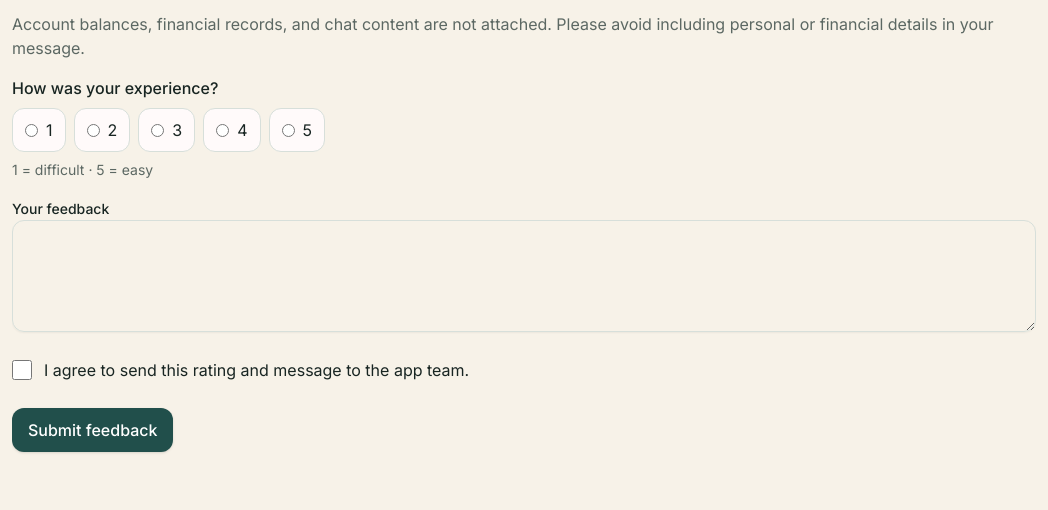
Scenario: feedback UI validates consent, keeps a failed draft and retries without attaching finances
This screenshot has width=1048, height=510.
Click the button "Submit feedback" at (93, 430), box [12,408,174,452]
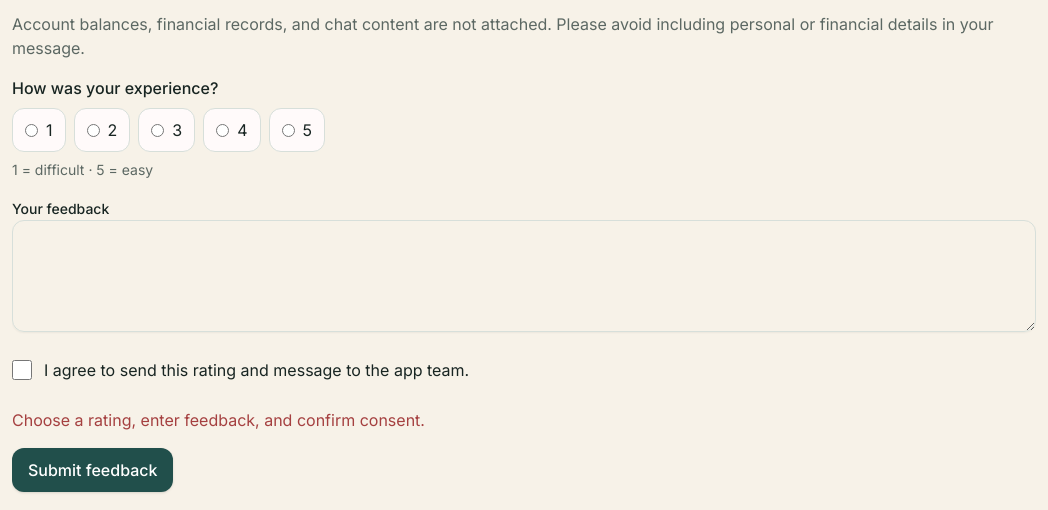
Now the message "Choose a rating, enter feedback, and confirm consent." is shown, box [12,410,425,430]
Click the radio button named "4 of 5" at (223, 130), box [216,124,229,136]
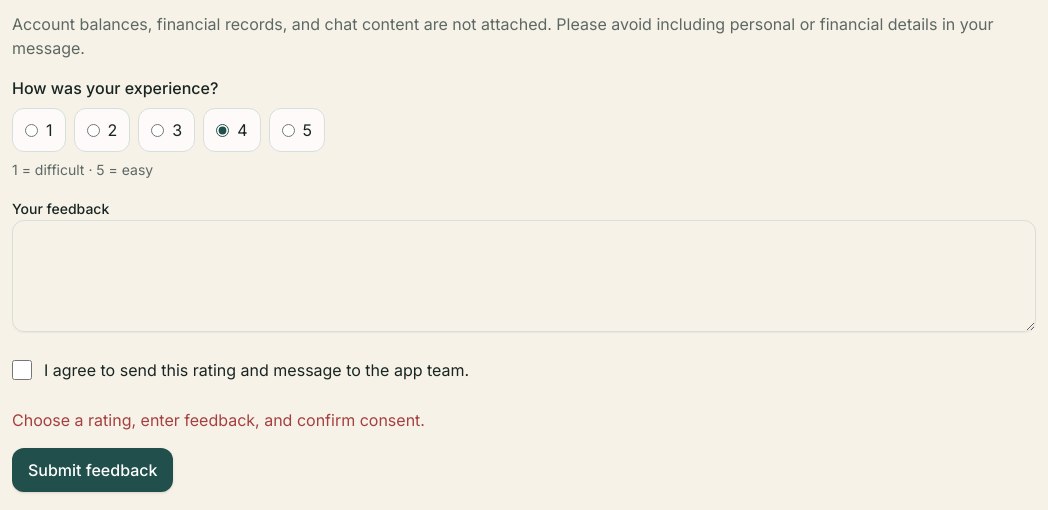
Type "Useful layout" into the text box labelled "Your feedback" at (524, 276), box [12,220,1036,332]
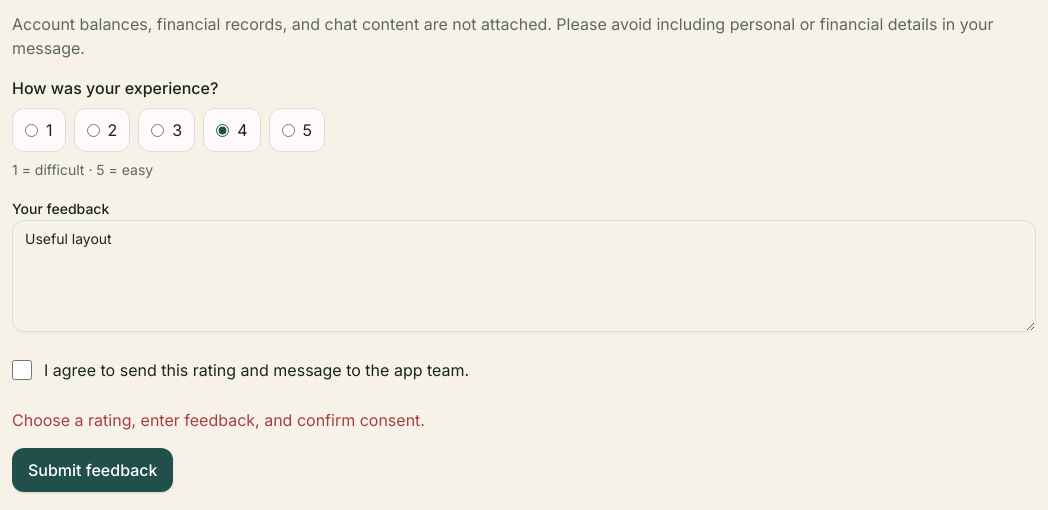
Click the checkbox at (22, 370), box [12,360,32,380]
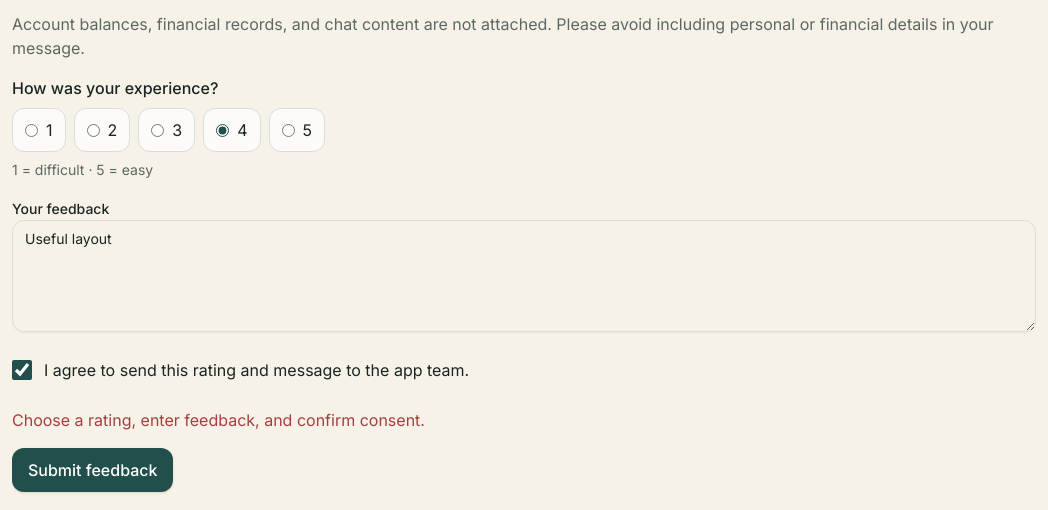
Click the button "Submit feedback" at (93, 470), box [12,448,174,492]
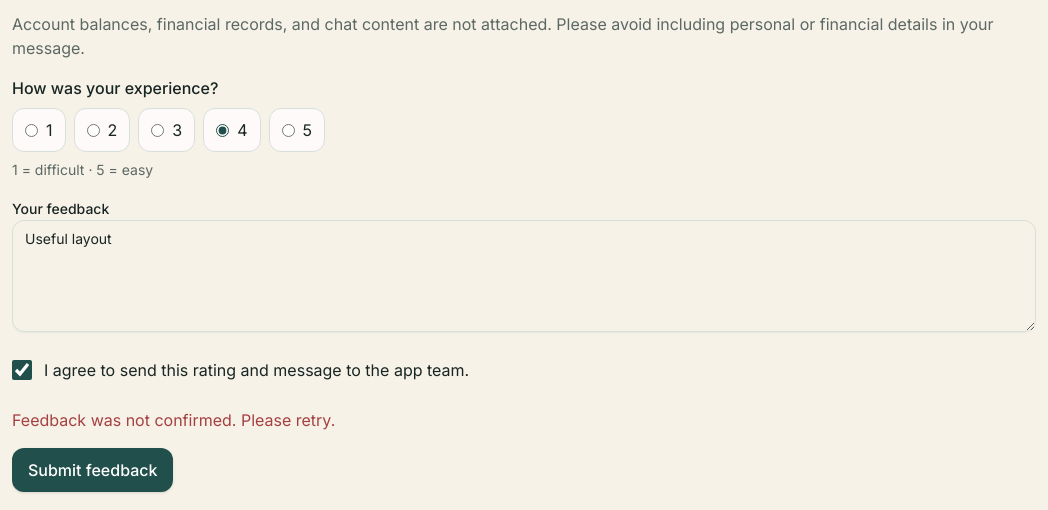
Now the text "Feedback was not confirmed. Please retry." is shown, box [12,410,335,430]
Click the button "Submit feedback" at (93, 470), box [12,448,174,492]
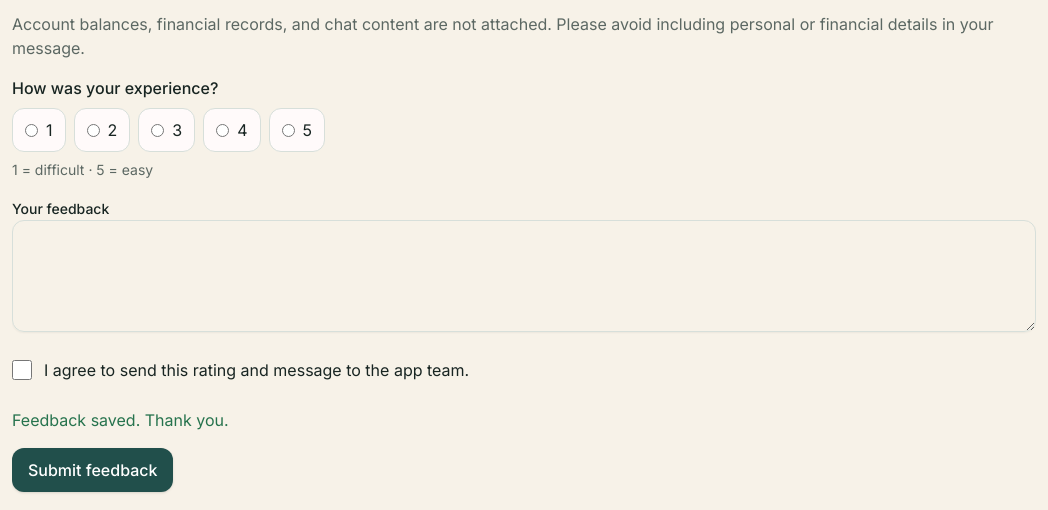
Now the message shows "Feedback saved", box [12,410,229,430]
